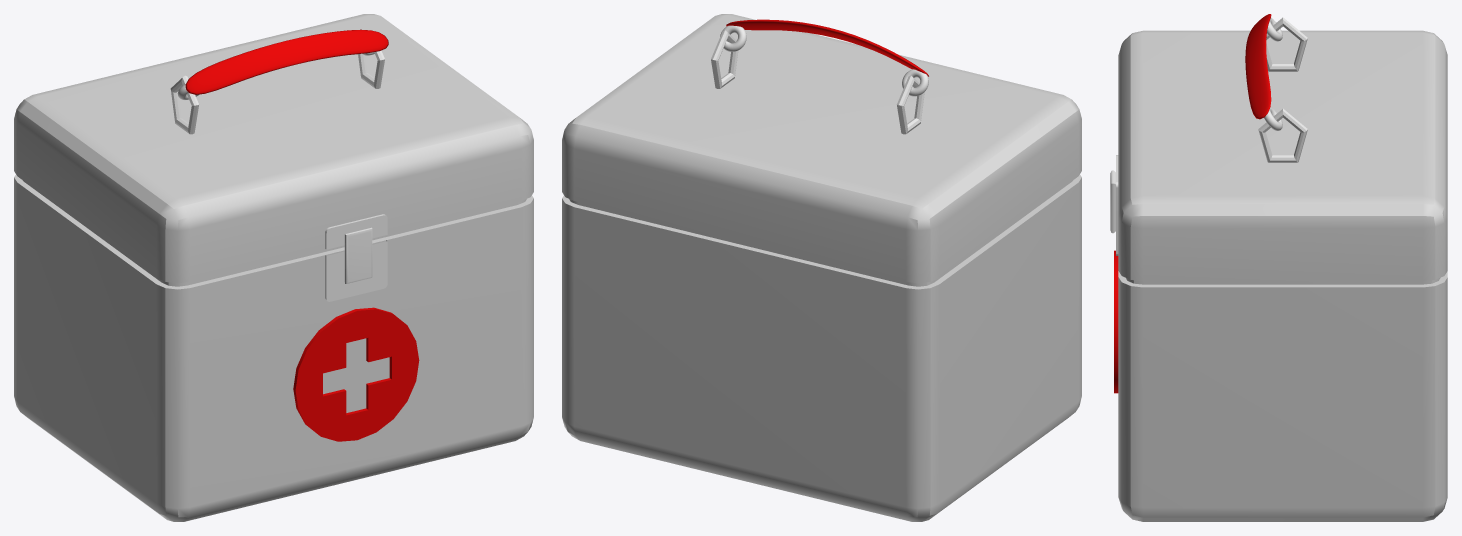
File: first Aid Box.fbx
3 views of the same model, side by side, from view 1: azimuth 30°, elevation 25°; view 2: azimuth 150°, elevation 25°; view 3: azimuth 270°, elevation 25° (orthographic).
Parts seen in each view (by area): view 1: pCube42, pCylinder15, pCube45, pCube44, pCube43, pTorus2; view 2: pCube42, pCube45, pTorus2, pTorus1; view 3: pCube42, pCube45, pTorus1, pTorus2, pCylinder15.
Part boxes in pixels (bbox=[...]): pCube42: bbox=[14, 14, 533, 521]; pCylinder15: bbox=[293, 307, 419, 441]; pCube45: bbox=[185, 29, 388, 94]; pCube44: bbox=[325, 214, 387, 301]; pCube43: bbox=[344, 227, 372, 283]; pTorus2: bbox=[170, 75, 198, 134]; pCube42: bbox=[562, 14, 1081, 521]; pCube45: bbox=[726, 19, 928, 76]; pTorus2: bbox=[897, 75, 924, 134]; pTorus1: bbox=[711, 30, 738, 88]; pCube42: bbox=[1118, 30, 1447, 521]; pCube45: bbox=[1245, 14, 1271, 119]; pTorus1: bbox=[1258, 108, 1307, 162]; pTorus2: bbox=[1266, 17, 1307, 71]; pCylinder15: bbox=[1114, 250, 1118, 393].
Size of the model in its own units: 20.08 by 20.2 by 15.6.
